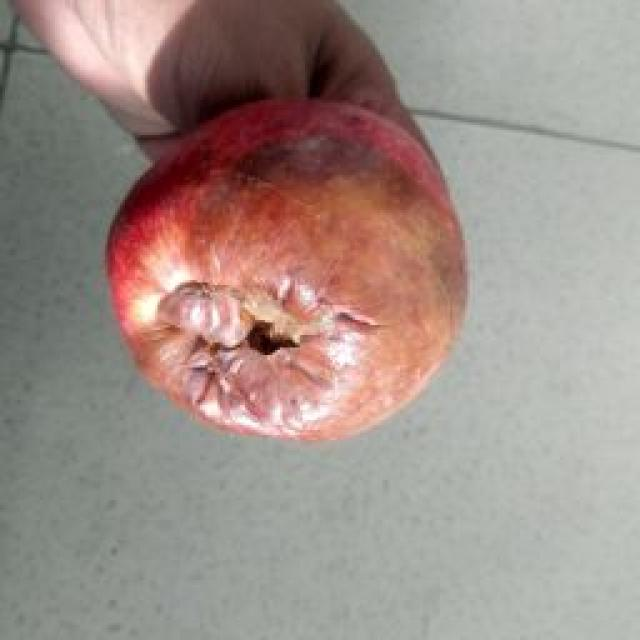Bad_Apple: (108, 101, 464, 439)
